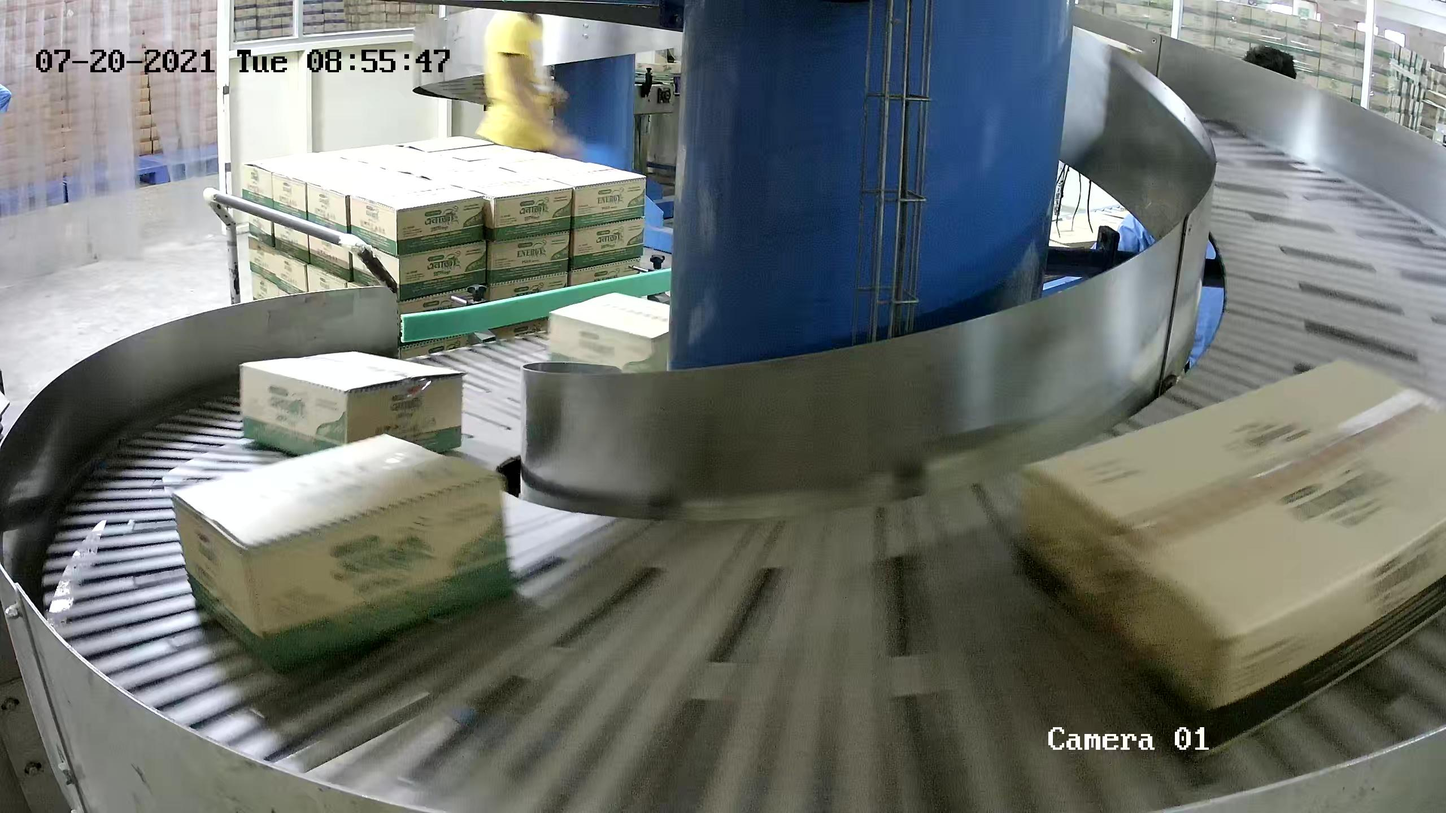Box: (1016, 350, 1446, 761), (170, 430, 515, 677), (238, 349, 468, 459), (548, 291, 672, 373)
